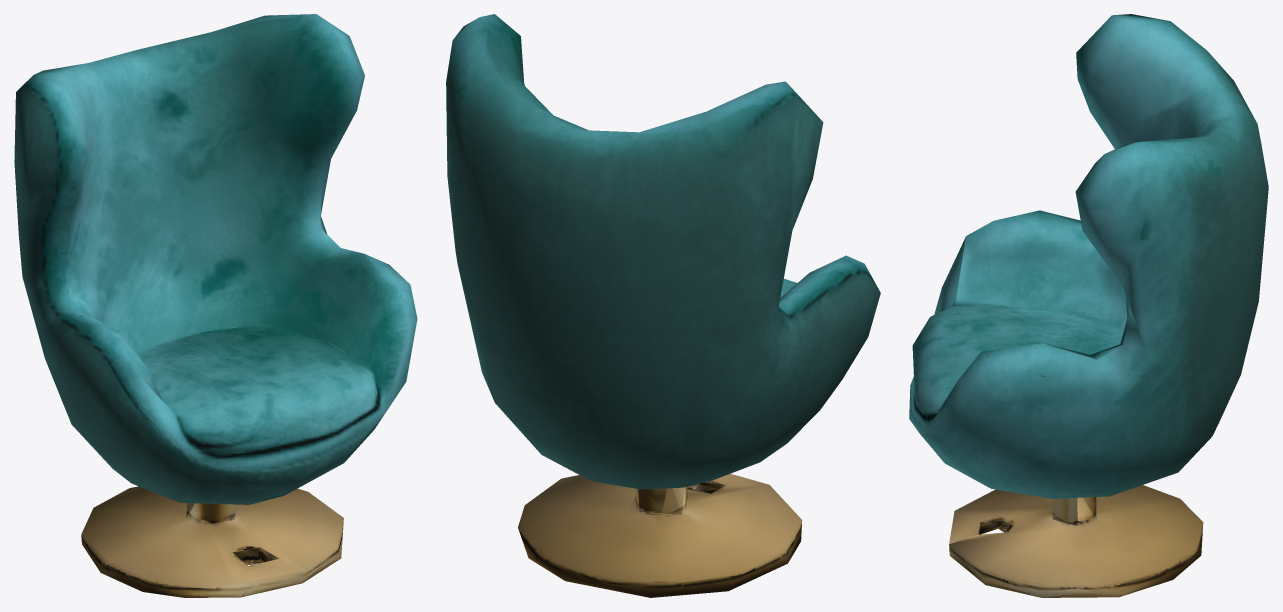
File: teal-egg-chair.glb
3 views of the same model, side by side, from view 1: azimuth 30°, elevation 25°; view 2: azimuth 150°, elevation 25°; view 3: azimuth 270°, elevation 25° (orthographic). The views are drawn at different scales.
Parts seen in each view (by area): view 1: geometry_0.001; view 2: geometry_0.001; view 3: geometry_0.001.
Boxes of the visible parts, left/top/right/bottom form: geometry_0.001: left=14, top=14, right=417, bottom=597; geometry_0.001: left=446, top=14, right=880, bottom=597; geometry_0.001: left=909, top=14, right=1268, bottom=597.
Bounding box in the file's own units: 0.7084 × 1 × 0.6984.
1 material, 1 textured.
